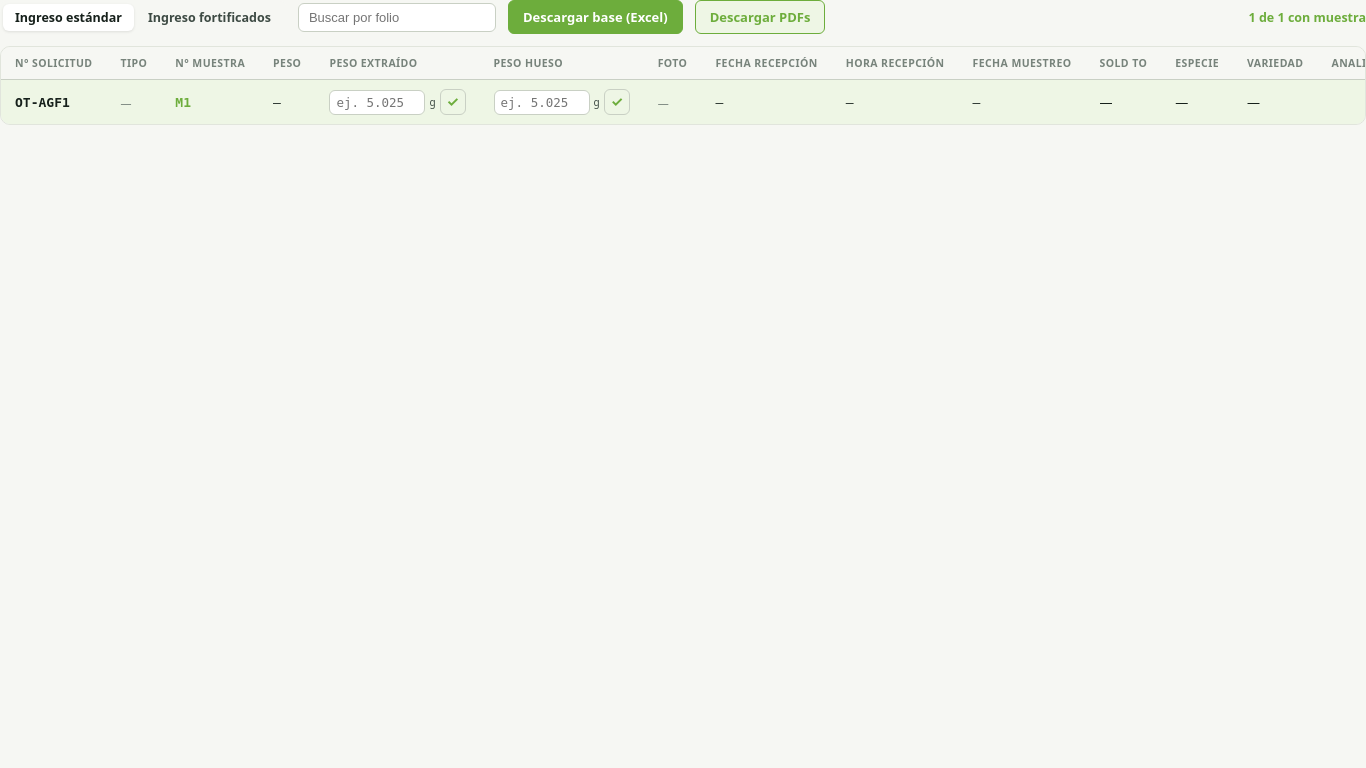
it: TablaSolicitudes · Descargar PDFs › la opción «no cruzadas» se desactiva si todas ya tienen muestra
What coordinates should you click on to do the following:
click the button "Descargar PDFs"
I would click on:
 (760, 17)
Its box is [695,0,825,34].
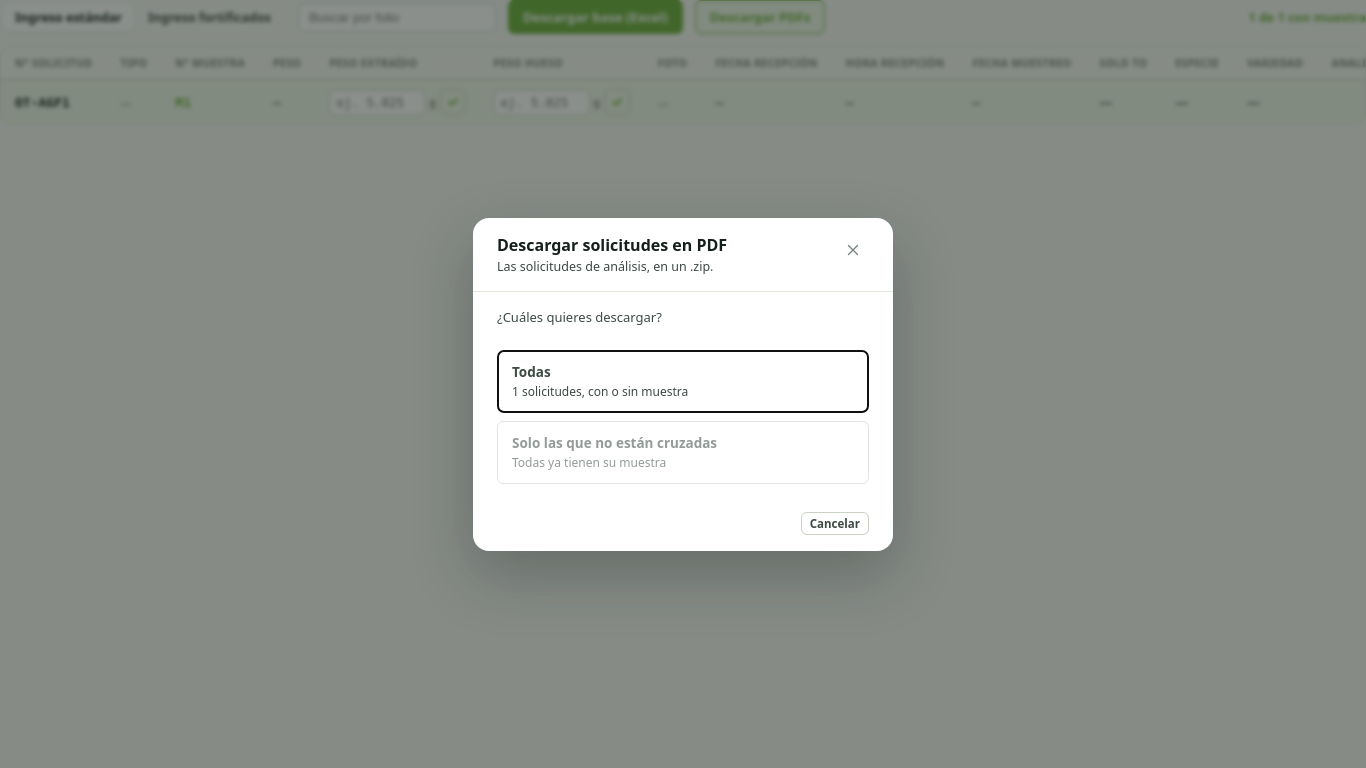
Check: the button "Solo las que no están cruzadas Todas ya tienen su muestra" is disabled, box [497,420,869,484]
